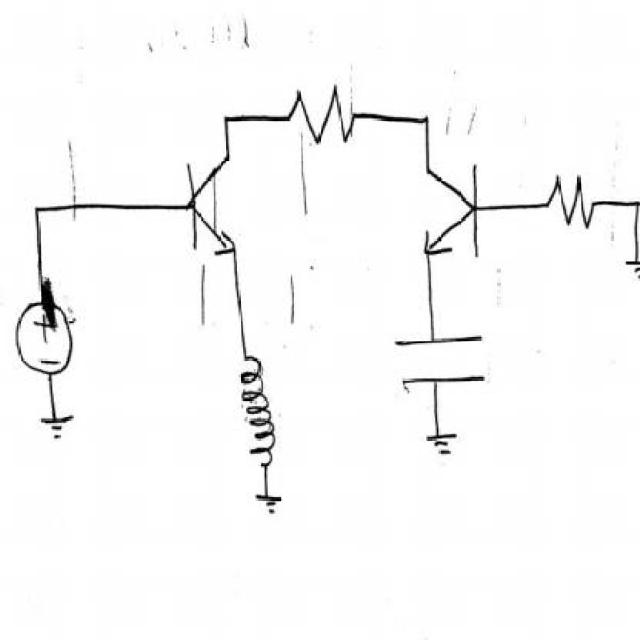capacitor: (383, 317, 497, 398)
ground: (418, 416, 475, 469), (242, 486, 295, 518), (36, 410, 82, 442)
inductor: (225, 346, 295, 480)
resistor: (282, 86, 373, 152), (542, 168, 606, 240)
transistor: (168, 150, 252, 286), (418, 160, 484, 266)
voltage_source: (5, 289, 105, 385)
